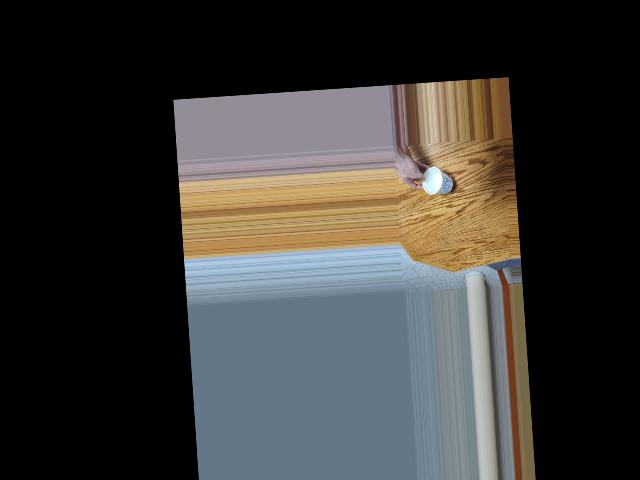cotage: (421, 171, 452, 194)
